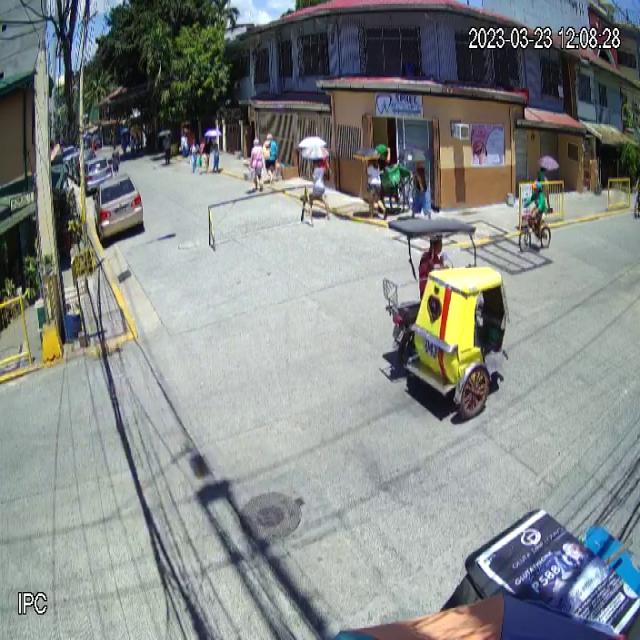Tricycle: (382, 215, 510, 420)
